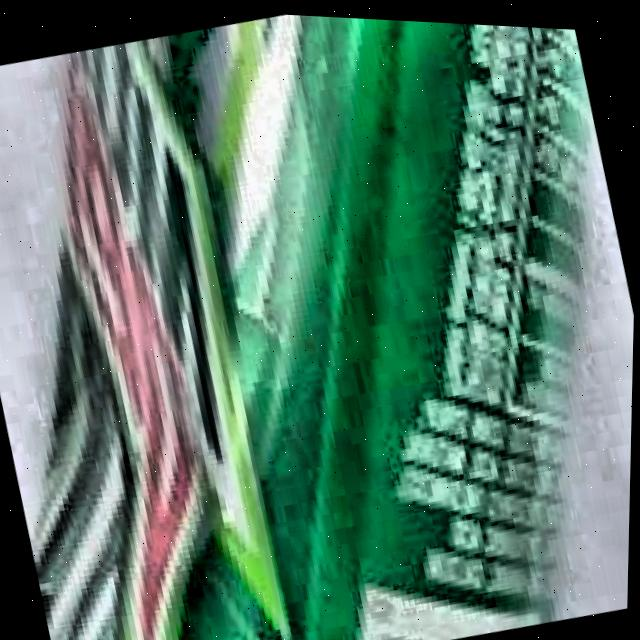metal: (31, 12, 597, 640)
